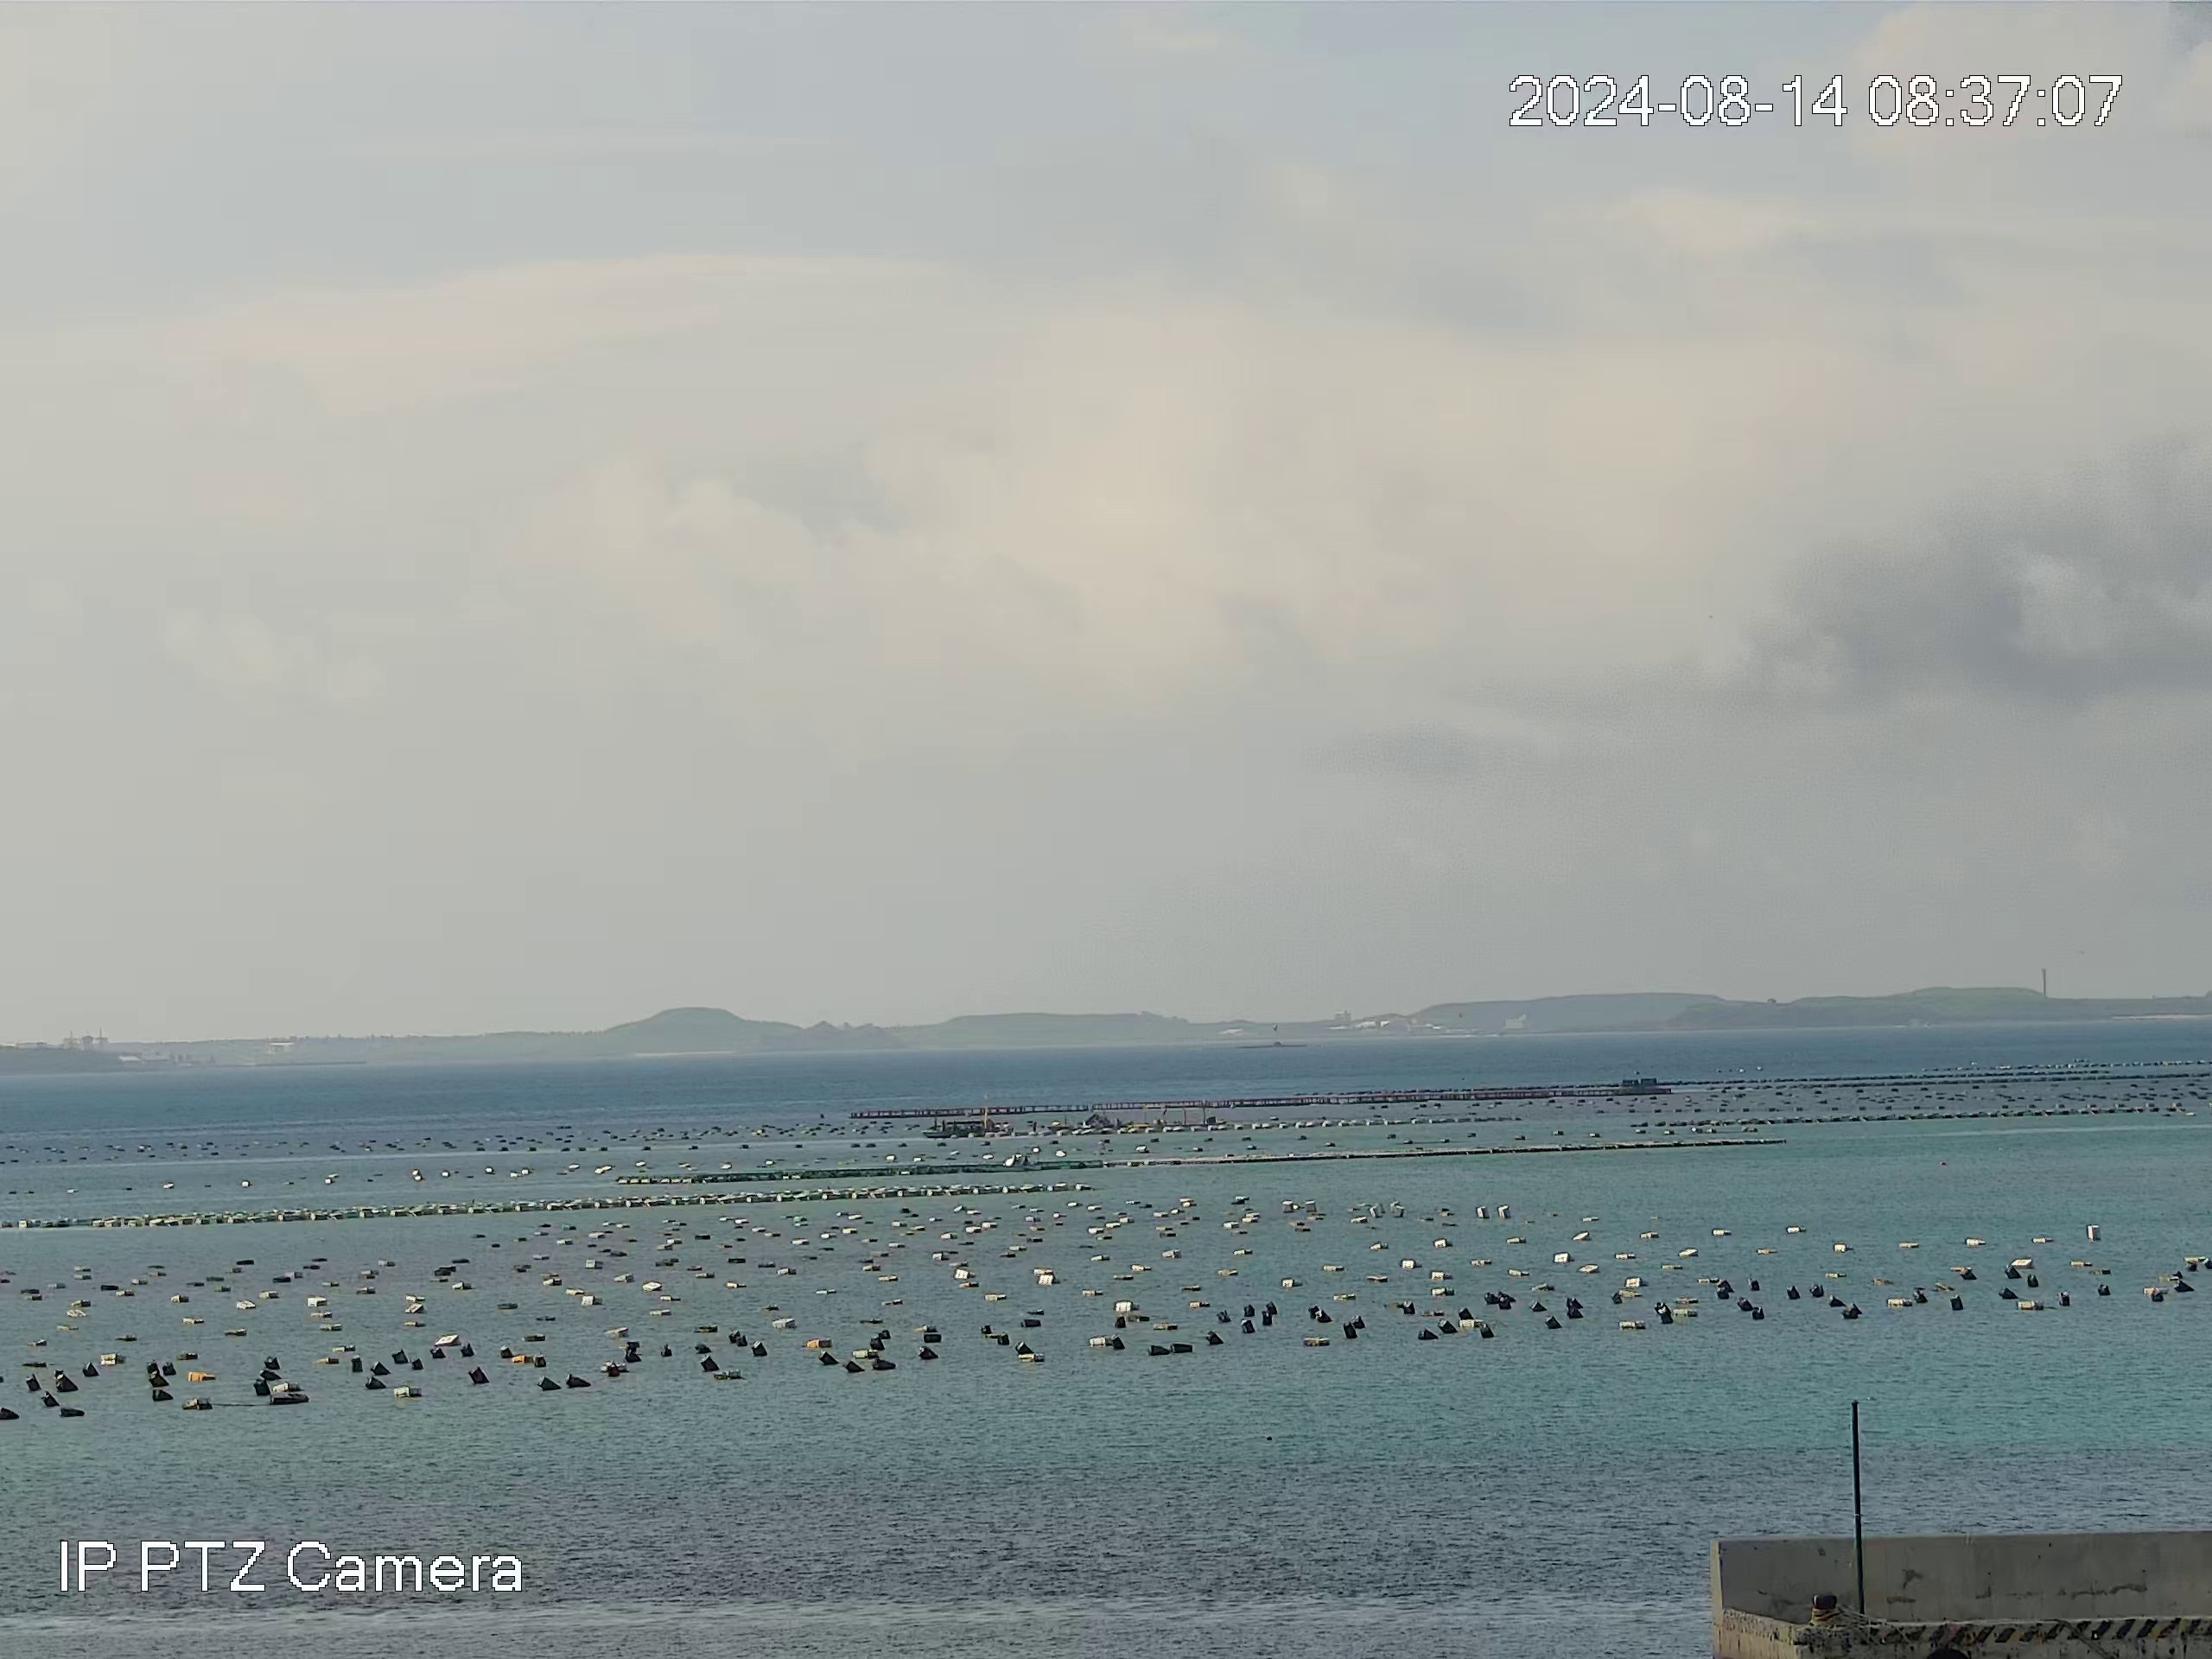boat: (921, 1119, 986, 1138)
